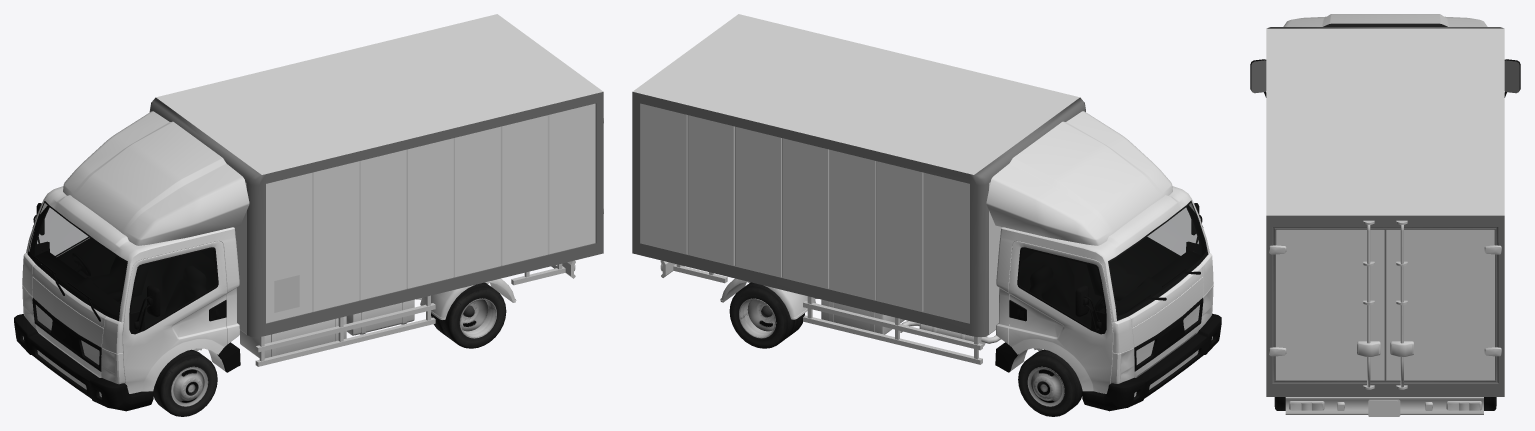
The picture shows the model from 3 angles, left to right: view 1: azimuth 30°, elevation 25°; view 2: azimuth 150°, elevation 25°; view 3: azimuth 270°, elevation 25°; orthographic projection. The views are drawn at different scales.
Visible parts, largest first — view 1: BODY_BODY_0, BOX_METAL_METALL_0, GLASS_GLASS_0, bottom_BOTTOM_0, interior_VOID_0, CABIN_PLASTIC_PLASTIC_0, BUMPER_FRONT_PLASTIC_0, wheel_01_TIRE_0, wheel_02_TIRE_0, wheel_02_RIM_0, wheel_01_RIM_0, LIGHTS_LIGHTS_GLASS_0 (+1 smaller); view 2: BODY_BODY_0, BOX_METAL_METALL_0, GLASS_GLASS_0, interior_VOID_0, bottom_BOTTOM_0, CABIN_PLASTIC_PLASTIC_0, BUMPER_FRONT_PLASTIC_0, wheel_003_TIRE_0, wheel_004_TIRE_0, wheel_003_RIM_0, wheel_004_RIM_0, LIGHTS_LIGHTS_GLASS_0 (+1 smaller); view 3: BODY_BODY_0, BOX_METAL_METALL_0, bottom_BOTTOM_0, CABIN_PLASTIC_METALL_0, LIGHTS_LIGHT_0, LIGHTS_LIGHTS_GLASS_0, bottom_07 - Default_0.
Part boxes in pixels (<box>): BODY_BODY_0: <box>22,14,603,393</box>; BOX_METAL_METALL_0: <box>149,92,603,337</box>; GLASS_GLASS_0: <box>28,201,216,327</box>; bottom_BOTTOM_0: <box>36,118,603,383</box>; interior_VOID_0: <box>29,205,216,327</box>; CABIN_PLASTIC_PLASTIC_0: <box>27,201,240,372</box>; BUMPER_FRONT_PLASTIC_0: <box>14,314,153,411</box>; wheel_01_TIRE_0: <box>153,349,217,416</box>; wheel_02_TIRE_0: <box>431,282,506,348</box>; wheel_02_RIM_0: <box>459,298,496,338</box>; wheel_01_RIM_0: <box>171,366,208,406</box>; LIGHTS_LIGHTS_GLASS_0: <box>23,264,575,383</box>; BODY_BODY_0: <box>632,14,1213,393</box>; BOX_METAL_METALL_0: <box>632,92,1085,337</box>; GLASS_GLASS_0: <box>1019,201,1207,327</box>; interior_VOID_0: <box>1019,205,1206,327</box>; bottom_BOTTOM_0: <box>660,260,1199,383</box>; CABIN_PLASTIC_PLASTIC_0: <box>995,201,1208,372</box>; BUMPER_FRONT_PLASTIC_0: <box>1082,313,1221,411</box>; wheel_003_TIRE_0: <box>729,282,804,348</box>; wheel_004_TIRE_0: <box>1018,349,1082,416</box>; wheel_003_RIM_0: <box>739,298,776,338</box>; wheel_004_RIM_0: <box>1027,366,1064,406</box>; LIGHTS_LIGHTS_GLASS_0: <box>660,263,1212,382</box>; BODY_BODY_0: <box>1266,14,1504,380</box>; BOX_METAL_METALL_0: <box>1266,27,1504,396</box>; bottom_BOTTOM_0: <box>1269,220,1501,416</box>; CABIN_PLASTIC_METALL_0: <box>1251,60,1519,93</box>; LIGHTS_LIGHT_0: <box>1289,401,1481,409</box>; LIGHTS_LIGHTS_GLASS_0: <box>1289,402,1481,410</box>; bottom_07 - Default_0: <box>1323,23,1447,26</box>.
Bounding box in the file's own units: 253 × 112 × 106.
